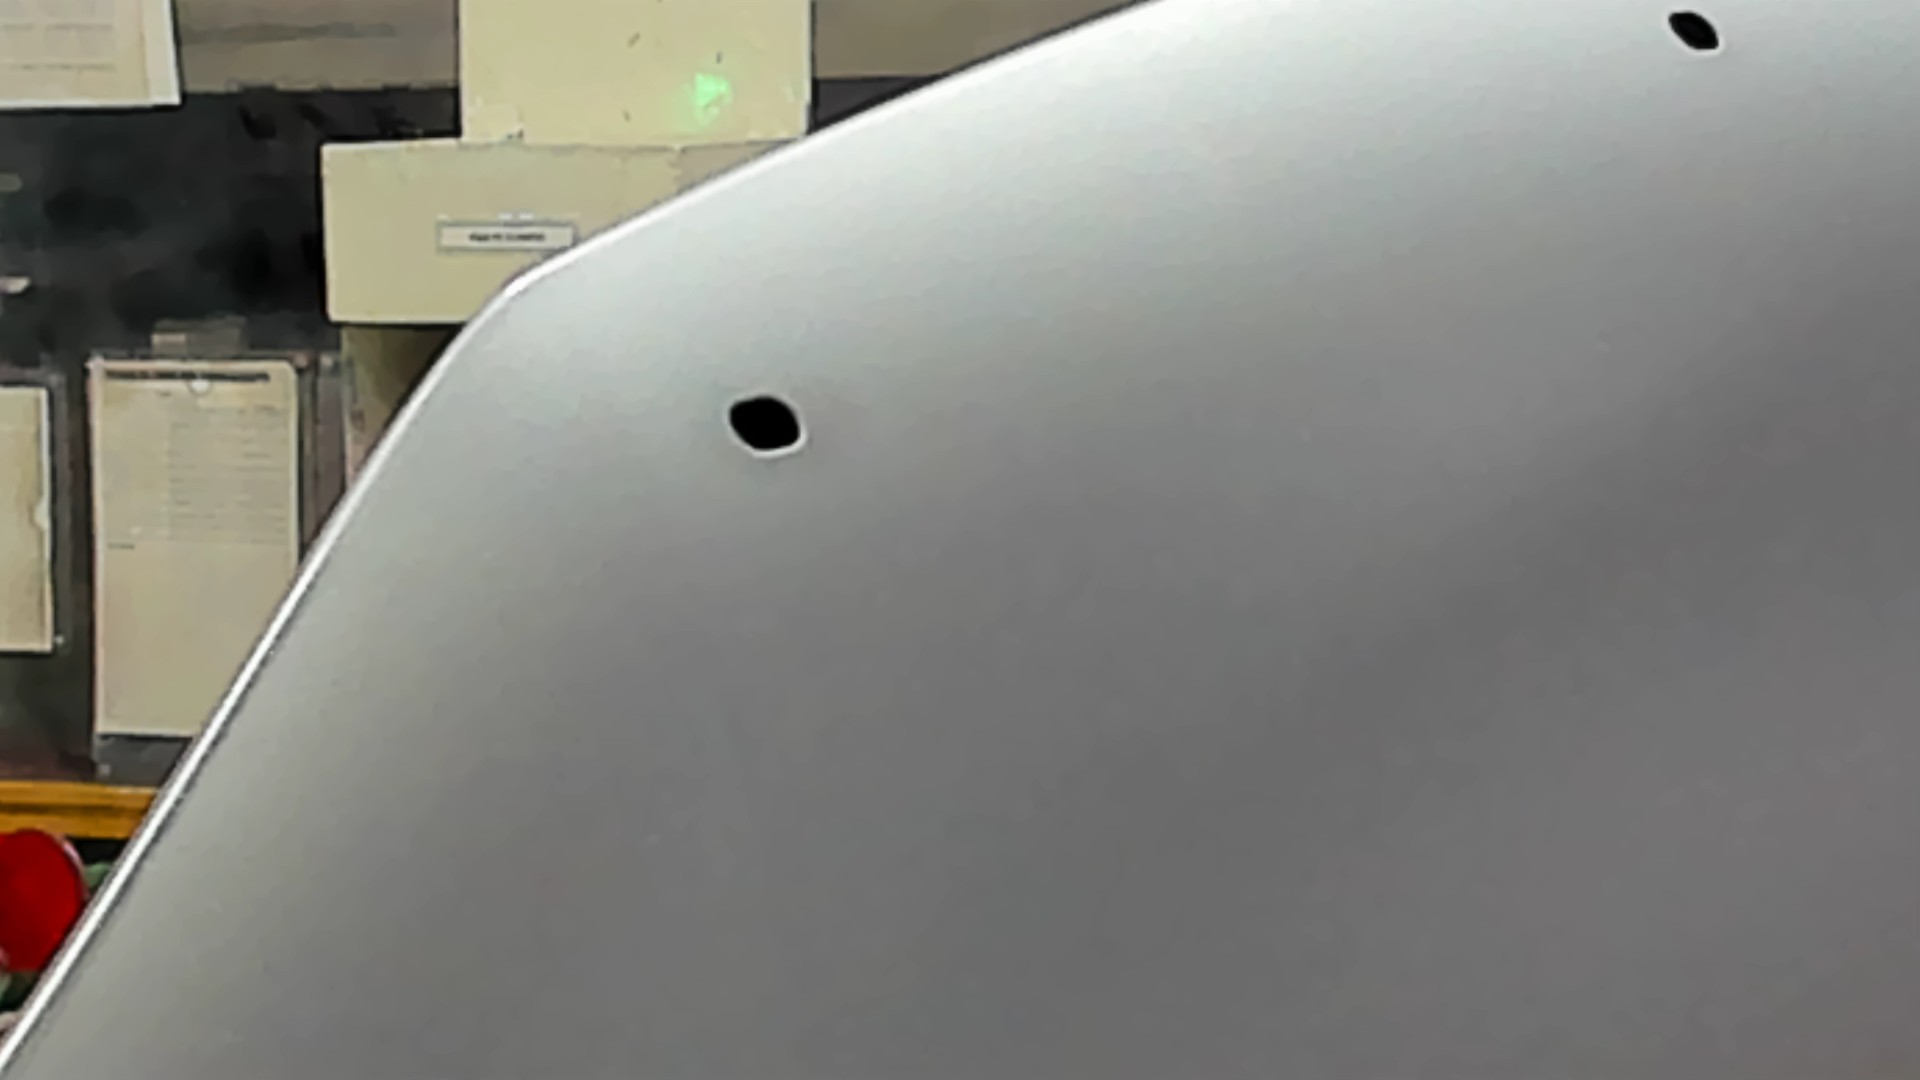chico: (709, 381, 829, 468), (1665, 7, 1727, 65)
